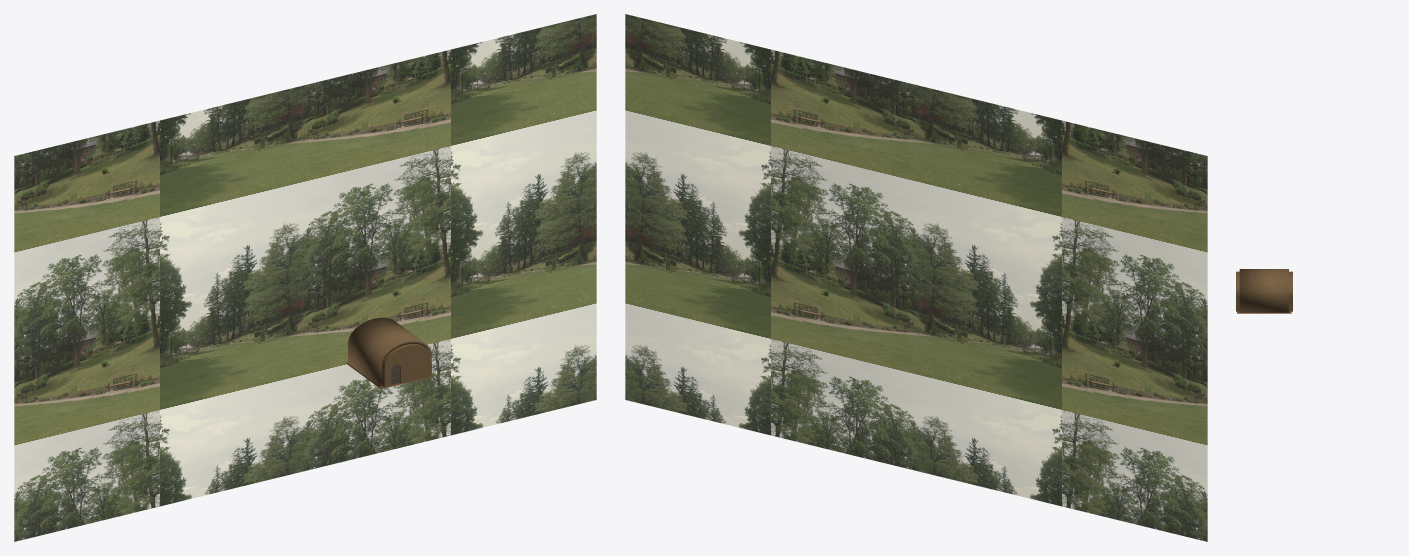
File: nursery.glb
3 views of the same model, side by side, from view 1: azimuth 30°, elevation 25°; view 2: azimuth 150°, elevation 25°; view 3: azimuth 270°, elevation 25° (orthographic). The views are drawn at different scales.
Parts seen in each view (by area): view 1: garden view, vault, front wall; view 2: garden view; view 3: vault.
Boxes of the visible parts, <box> form: garden view: <box>14,14,596,541</box>; vault: <box>348,317,431,386</box>; front wall: <box>382,343,430,387</box>; garden view: <box>625,14,1207,541</box>; vault: <box>1239,269,1288,312</box>.
Size of the model in its own units: 60 by 38 by 18.
Materials: 40 (22 with a texture image).
